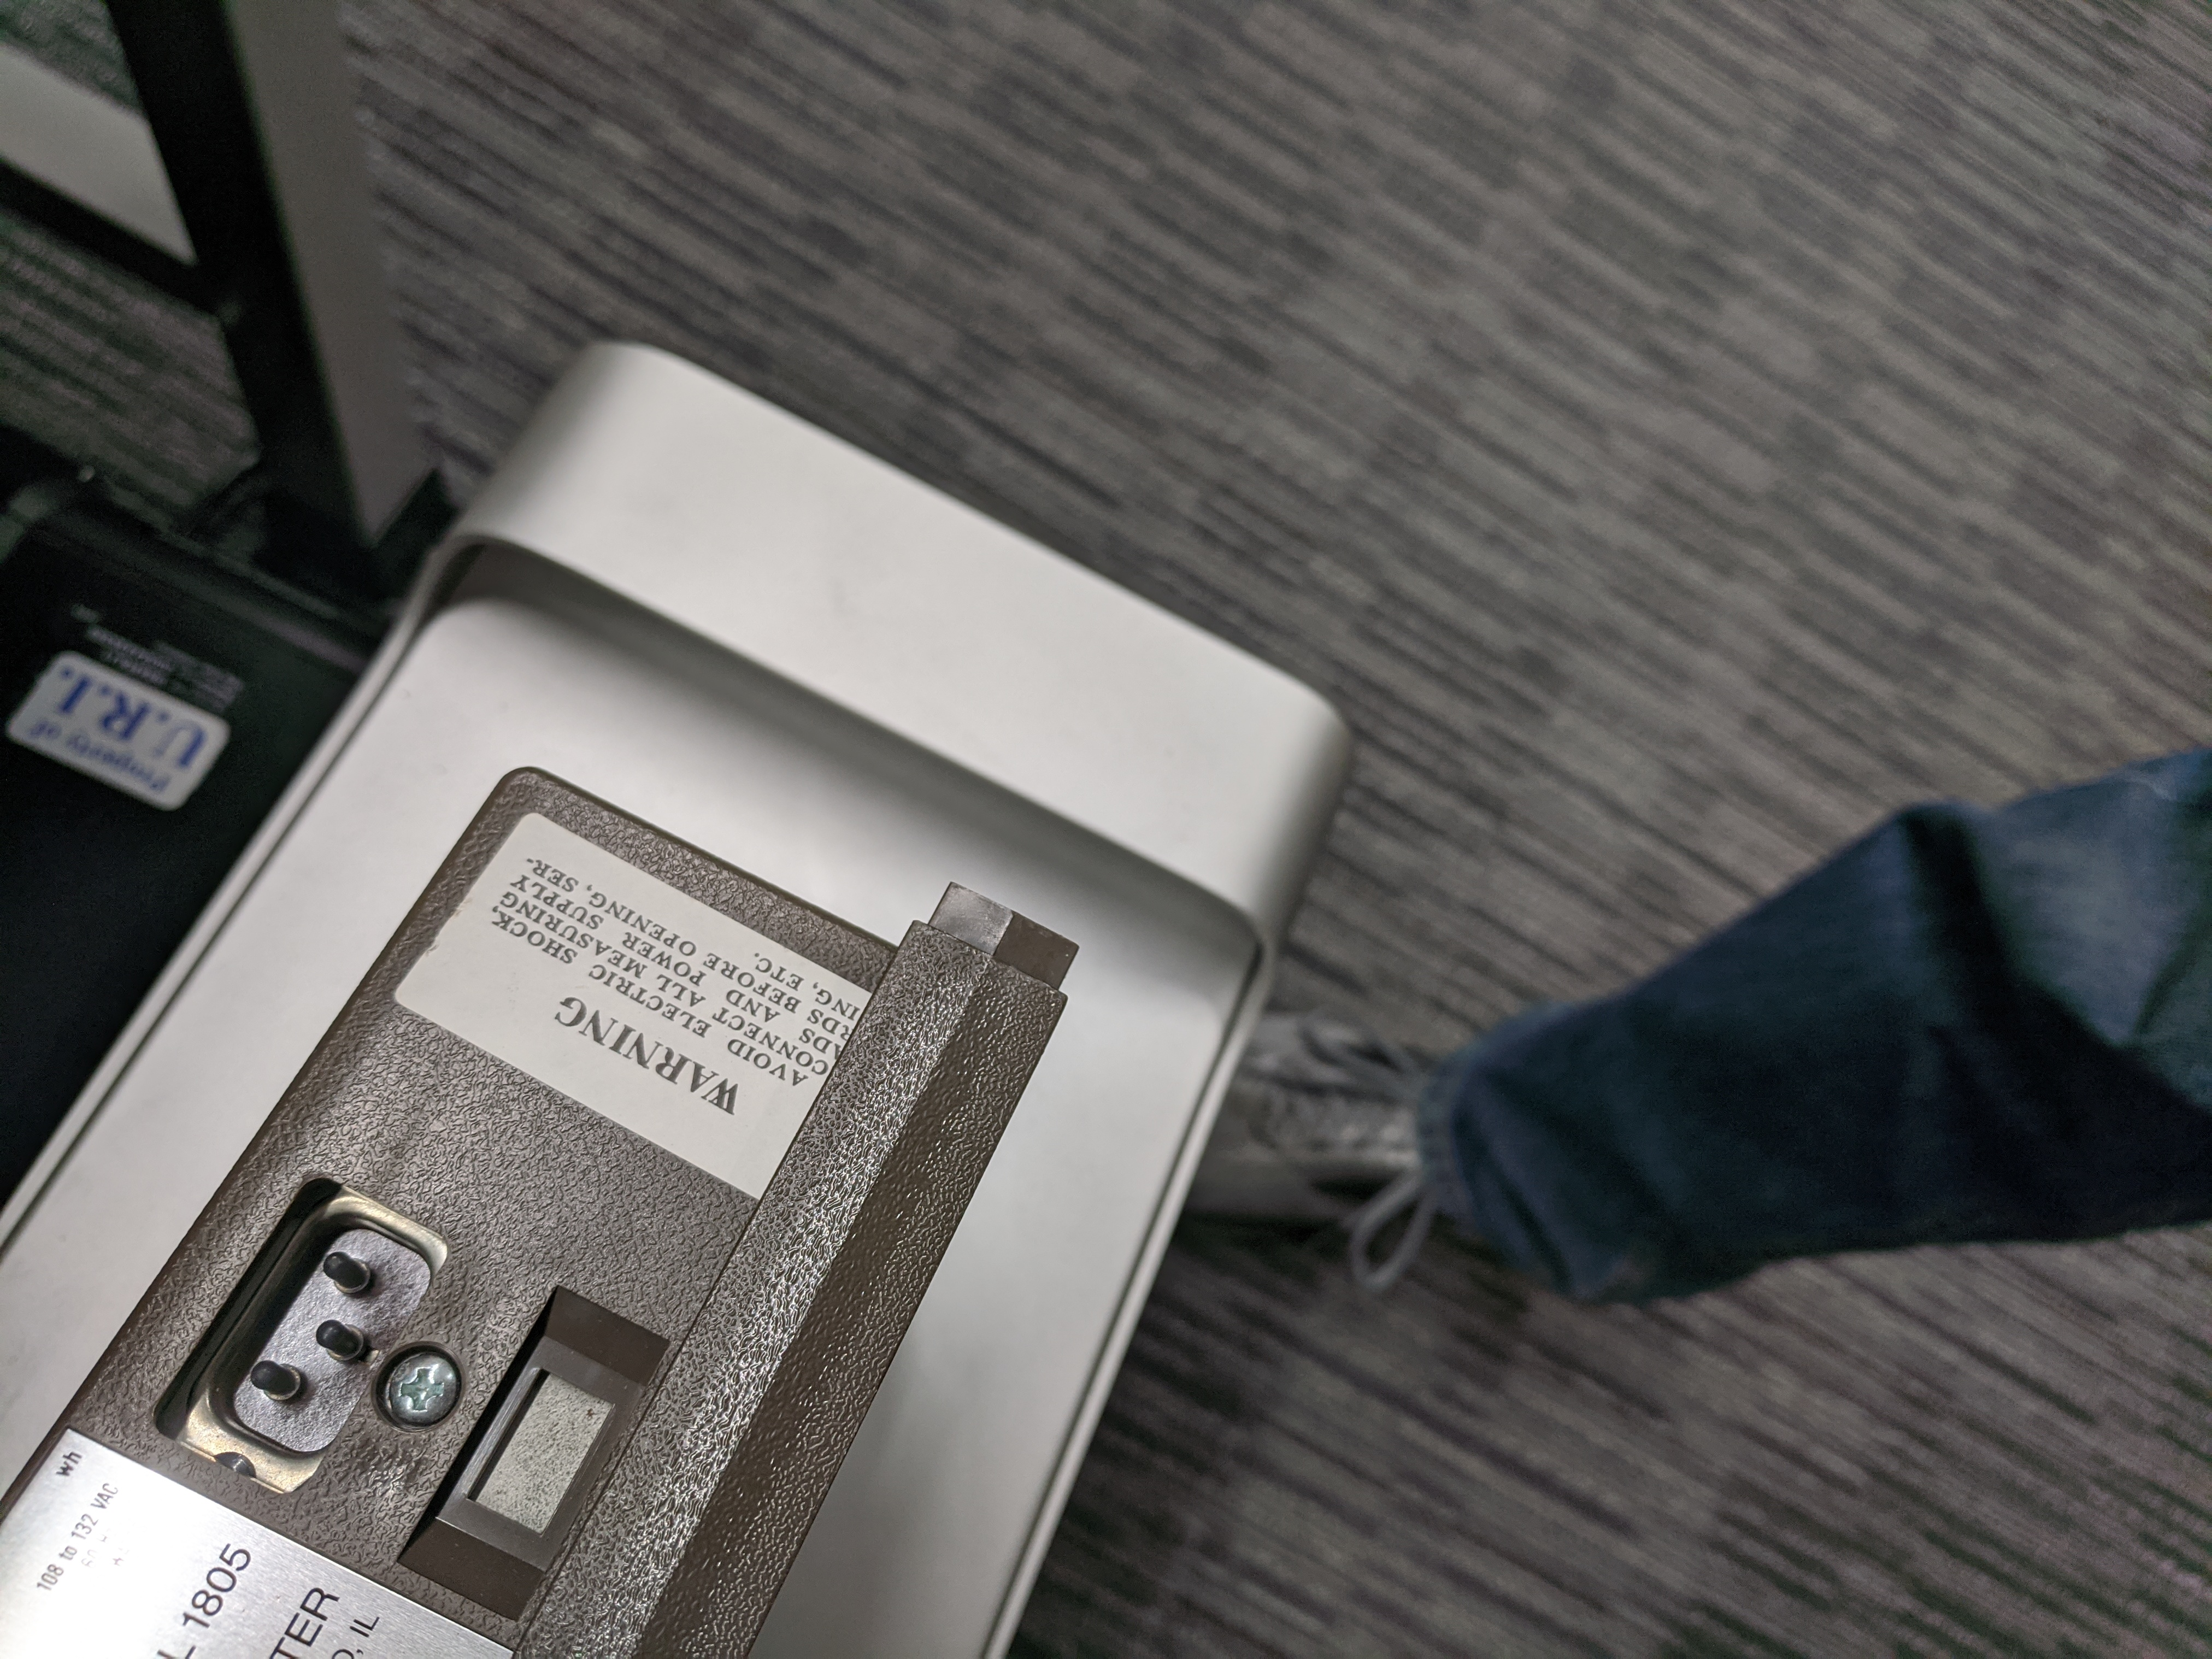cross_recessed_screw: (376, 1345, 453, 1417)
